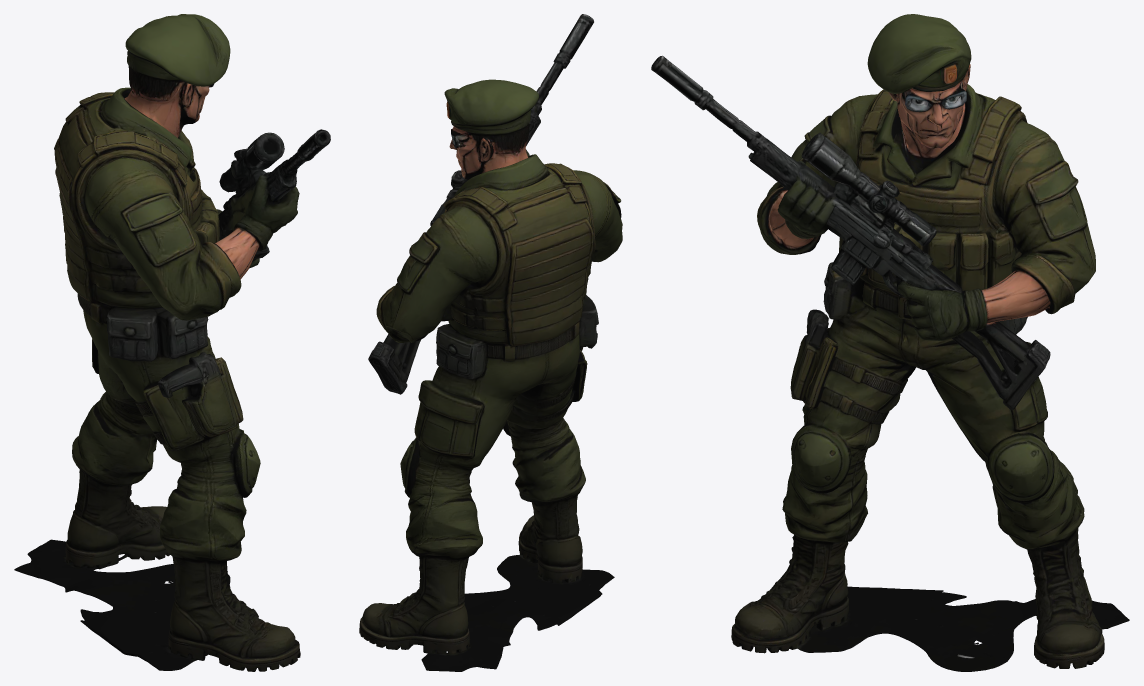
The model's file is sniperx.glb.
3 views of the same model, side by side, from view 1: azimuth 30°, elevation 25°; view 2: azimuth 150°, elevation 25°; view 3: azimuth 270°, elevation 25° (orthographic). The views are drawn at different scales.
Parts seen in each view (by area): view 1: tripo_node_fdbe8f8f-29c9-40f7-bf0a-aa7d3b23539e; view 2: tripo_node_fdbe8f8f-29c9-40f7-bf0a-aa7d3b23539e; view 3: tripo_node_fdbe8f8f-29c9-40f7-bf0a-aa7d3b23539e.
Part boxes in pixels (<box>): tripo_node_fdbe8f8f-29c9-40f7-bf0a-aa7d3b23539e: <box>14,14,330,671</box>; tripo_node_fdbe8f8f-29c9-40f7-bf0a-aa7d3b23539e: <box>359,14,622,671</box>; tripo_node_fdbe8f8f-29c9-40f7-bf0a-aa7d3b23539e: <box>651,14,1129,671</box>.
Size of the model in its own units: 0.359 by 1 by 0.712.
Materials: 1 (1 with a texture image).
